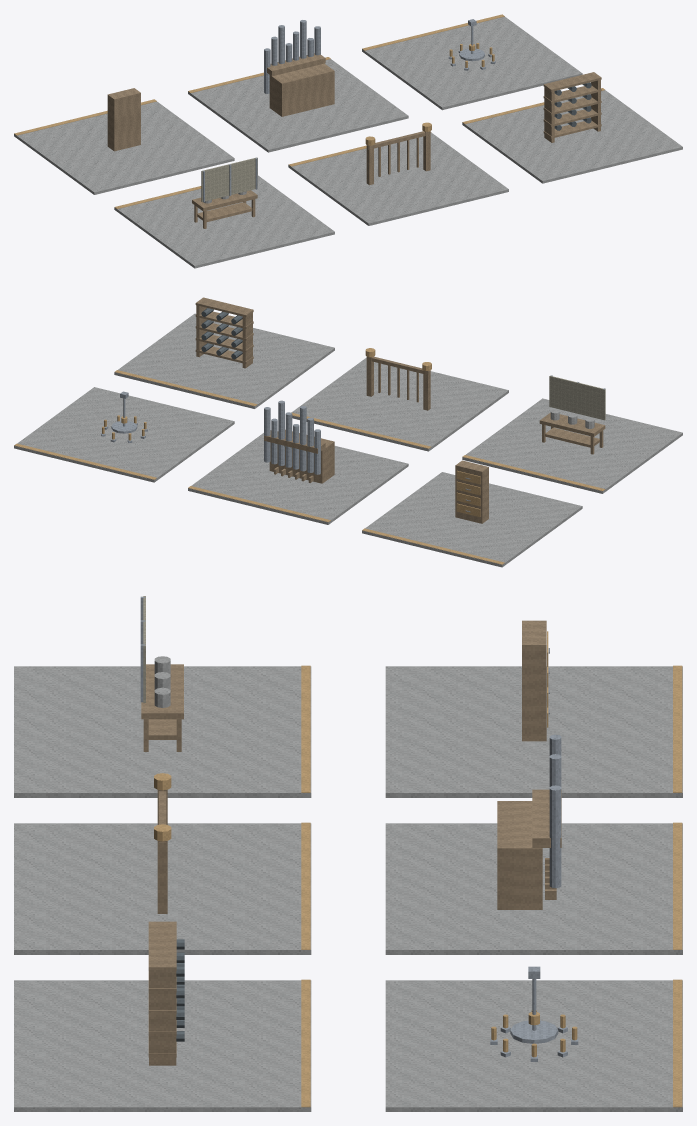
The model's file is level_blockout_kit_mansion_p01.glb.
3 renders of one model, top to bottom at view 1: azimuth 30°, elevation 25°; view 2: azimuth 150°, elevation 25°; view 3: azimuth 270°, elevation 25°, orthographic. The views are drawn at different scales.
Visible parts, largest first — view 1: level_blockout_kit_mansion_p01; view 2: level_blockout_kit_mansion_p01; view 3: level_blockout_kit_mansion_p01.
Boxes of the visible parts, box(x1,y1,x2,y2) form: level_blockout_kit_mansion_p01: box(14, 14, 682, 268); level_blockout_kit_mansion_p01: box(14, 297, 682, 567); level_blockout_kit_mansion_p01: box(14, 596, 682, 1111).
Size of the model in its own units: 19.65 by 3 by 12.6.
Materials: 6 (6 with a texture image).
